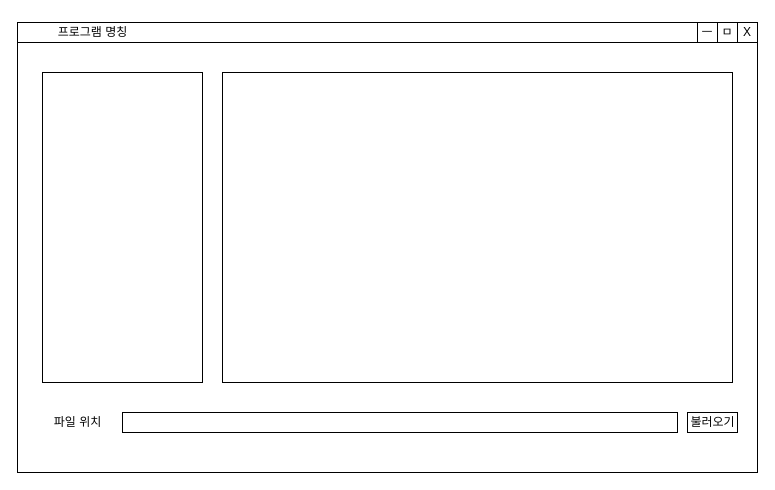
Image size: 775x490. Some labels were removed from this diagram. Here are the shapes that lost their labels. From the top down, the centre of each, then its label:
point (122, 227): 컨트롤 부분
point (477, 227): 이미지
